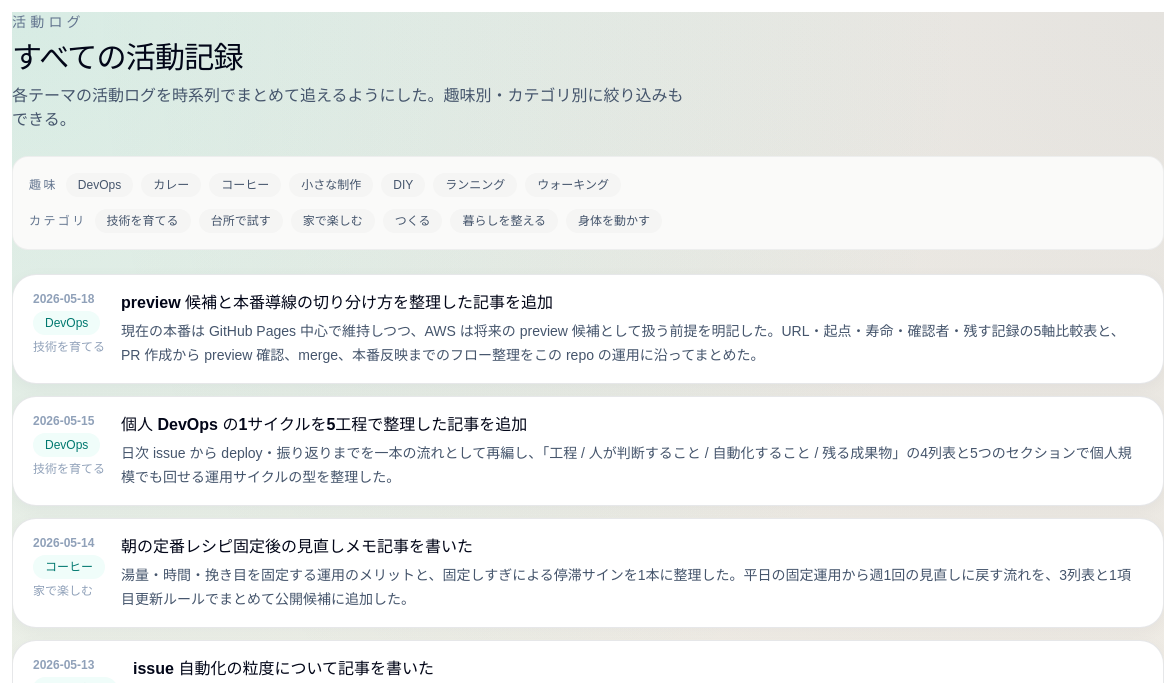
Scenario: ActivityPage › 絞り込みを解除すると全件に戻る
This screenshot has width=1164, height=683.
Click the button "ランニング" at (475, 185), box [433, 173, 517, 197]
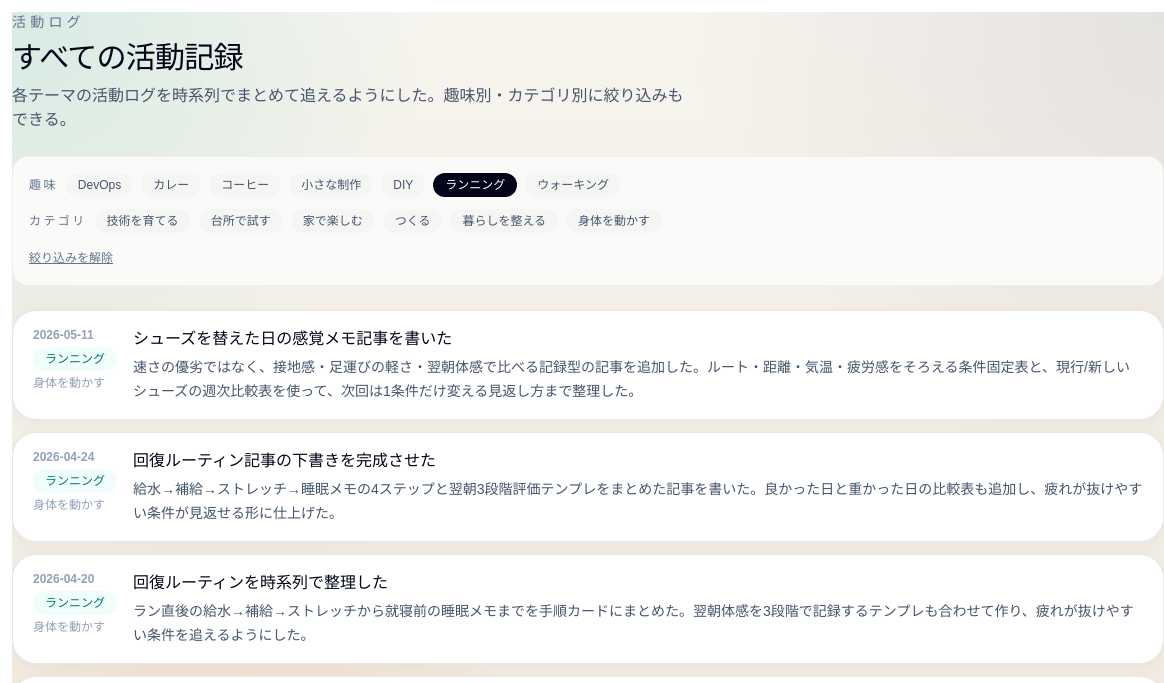
Click the button "絞り込みを解除" at (71, 258), box [29, 250, 113, 266]
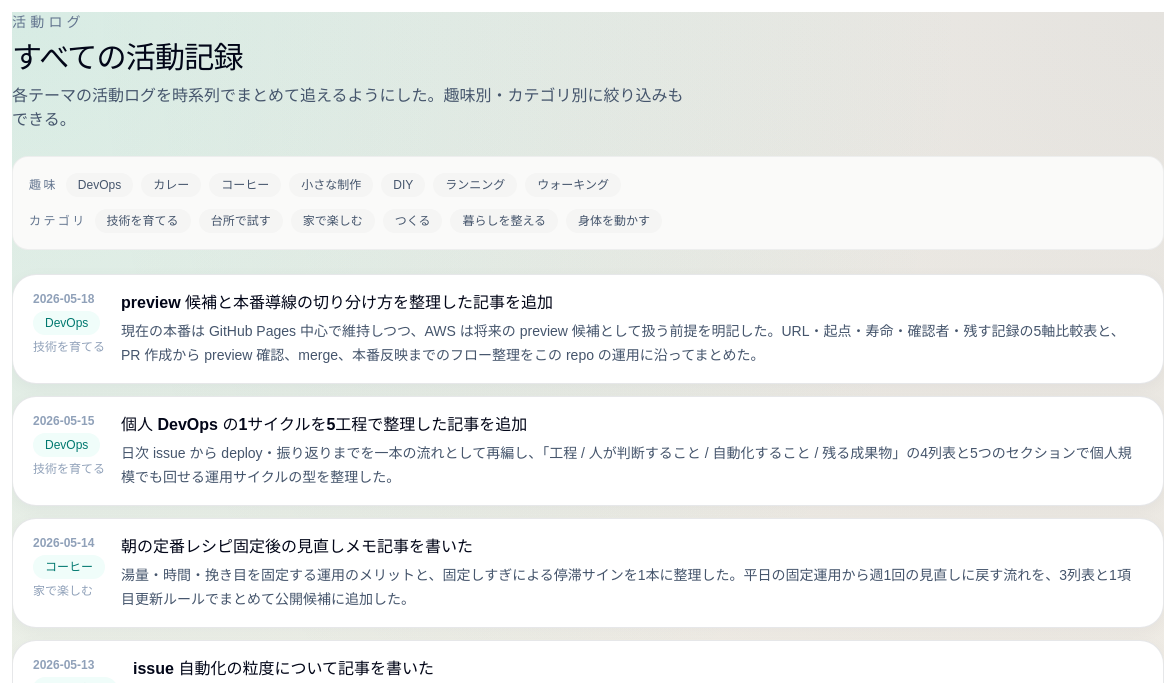
Result: the button "絞り込みを解除" is gone
